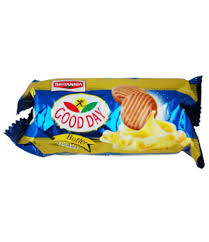gooday-small: (23, 77, 202, 156)
